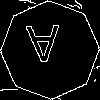A: (25, 25, 61, 72)
